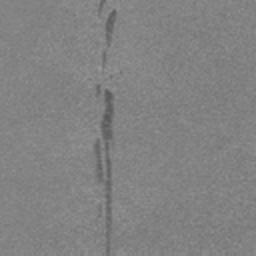Red iron sheet: (94, 84, 114, 256), (105, 9, 117, 46), (98, 0, 106, 12)
